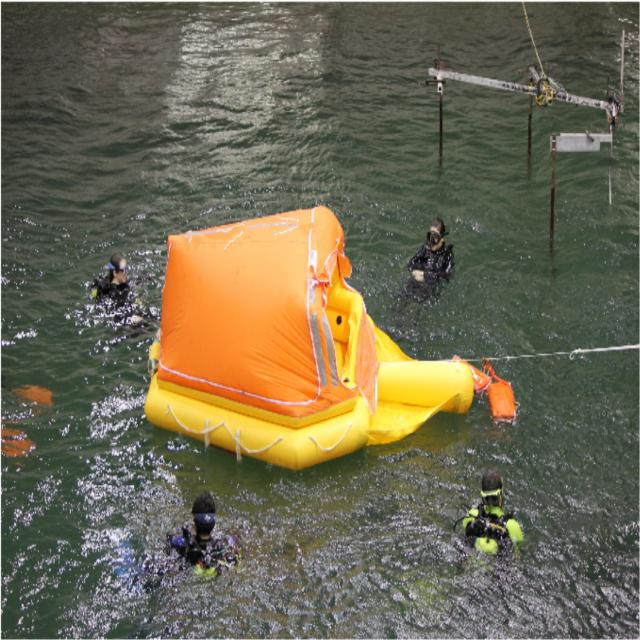Multi-person_life_raft: (144, 205, 474, 470)
